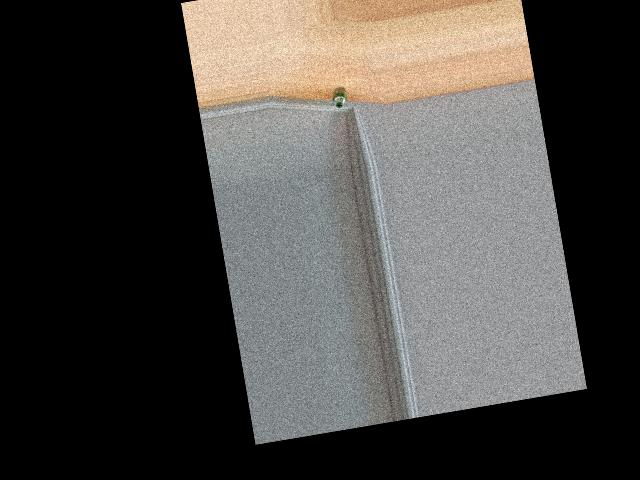beer: (331, 86, 348, 108)
